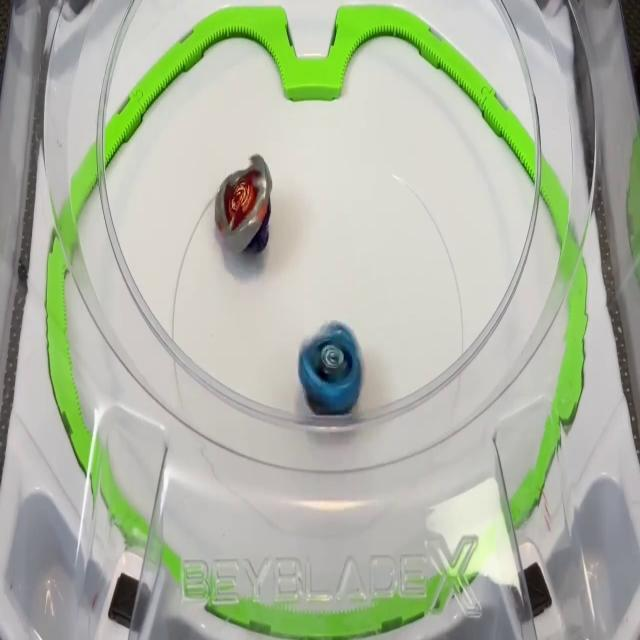Beyblade: (296, 322, 364, 421), (214, 154, 273, 257)
